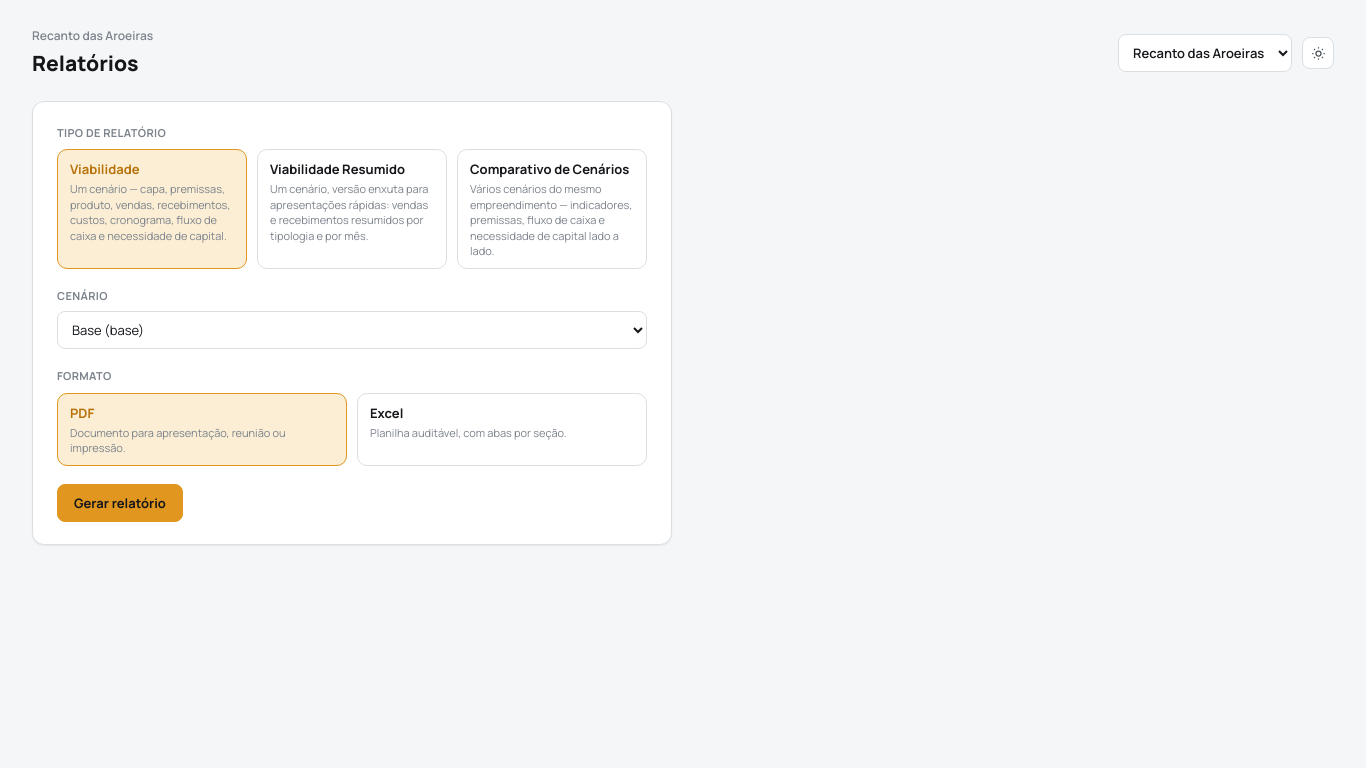
Test: RelatoriosPage › mostra o erro do backend quando gerar o relatório falha
Expected: the text "Recanto das Aroeiras" is shown, 32,26 -> 153,45
Click the button "Gerar relatório": (120, 503) 57,484 -> 183,522
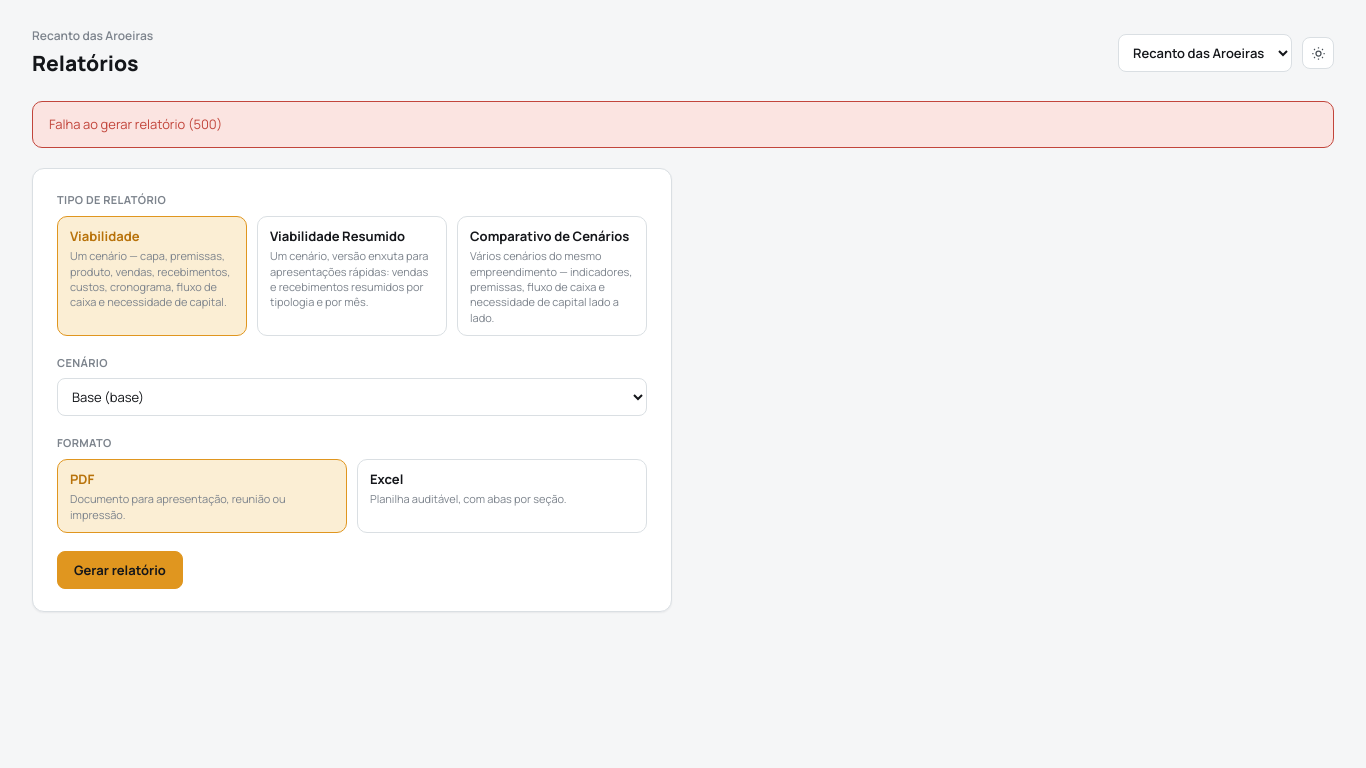
Expected: the text "Falha ao gerar relatório (500)" is shown, 32,101 -> 1334,148
